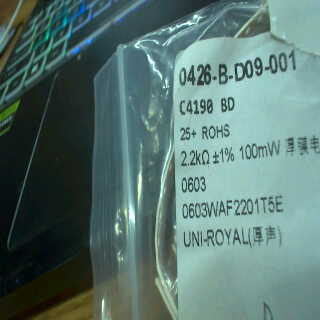2.2kR: (179, 145, 212, 168)
